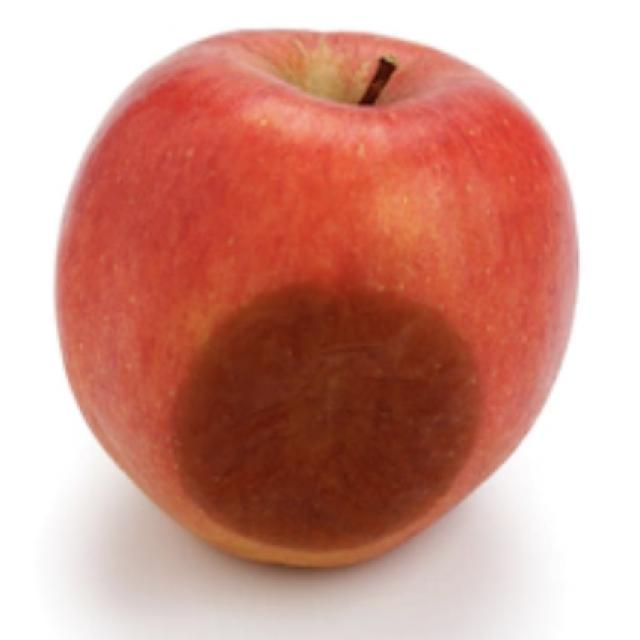rotten_apple: (54, 21, 581, 576)
